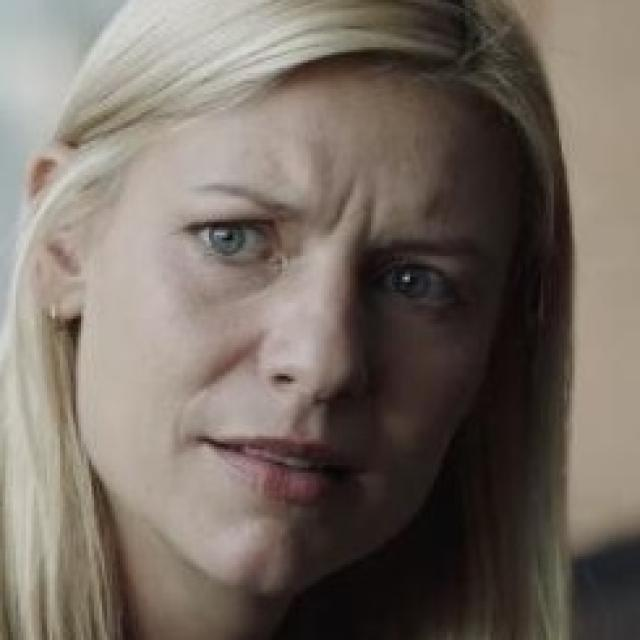Depress: (69, 70, 527, 601)
